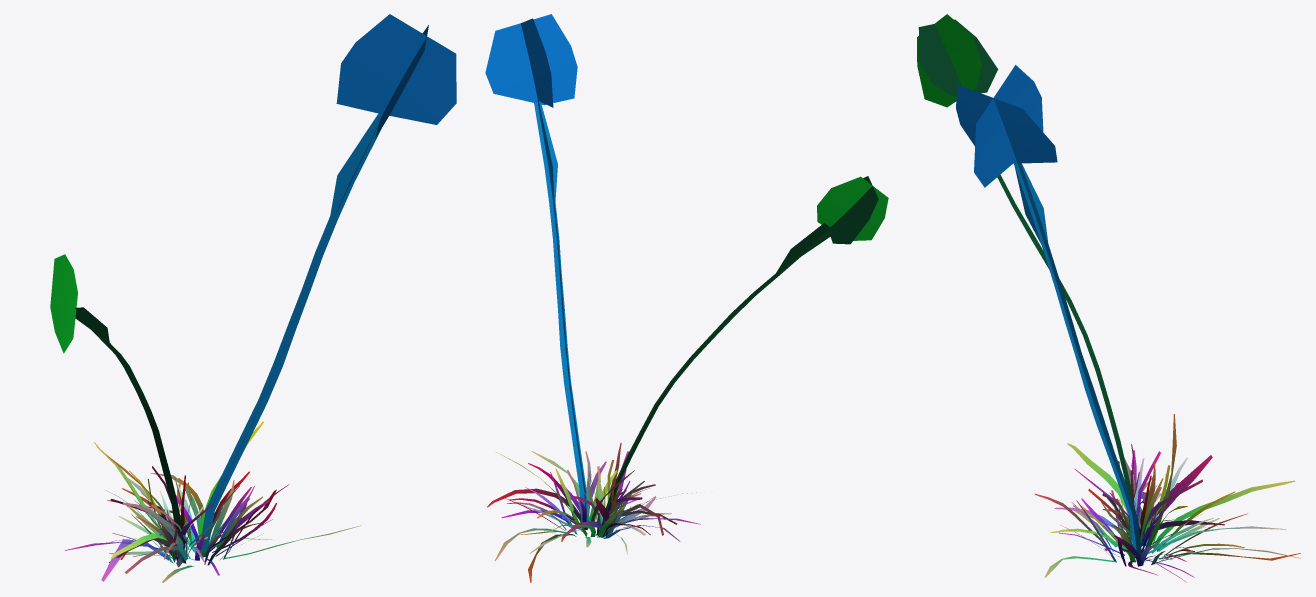
File: Sea_Thrift_vkbgaihha_Mid_vkbgaihha_VarH_LOD0.fbx
The picture shows the model from 3 angles, left to right: view 1: azimuth 30°, elevation 25°; view 2: azimuth 150°, elevation 25°; view 3: azimuth 270°, elevation 25°; orthographic projection. The views are drawn at different scales.
Visible parts, largest first — view 1: _s5x1_VarH_LOD1; view 2: _s5x1_VarH_LOD1; view 3: _s5x1_VarH_LOD1.
Boxes of the visible parts, x1,y1,x2,y2 form: _s5x1_VarH_LOD1: [50, 14, 456, 582]; _s5x1_VarH_LOD1: [485, 14, 888, 582]; _s5x1_VarH_LOD1: [917, 14, 1301, 582].
Bounding box in the file's own units: 11.48 × 13.86 × 8.64.
